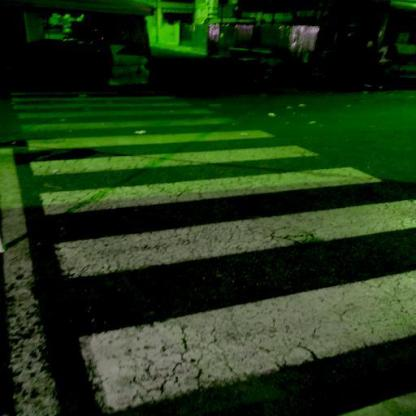crosswalk: (22, 141, 415, 222)
